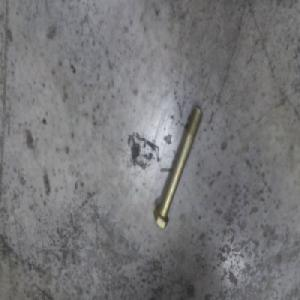Bolt: (153, 107, 202, 230)
